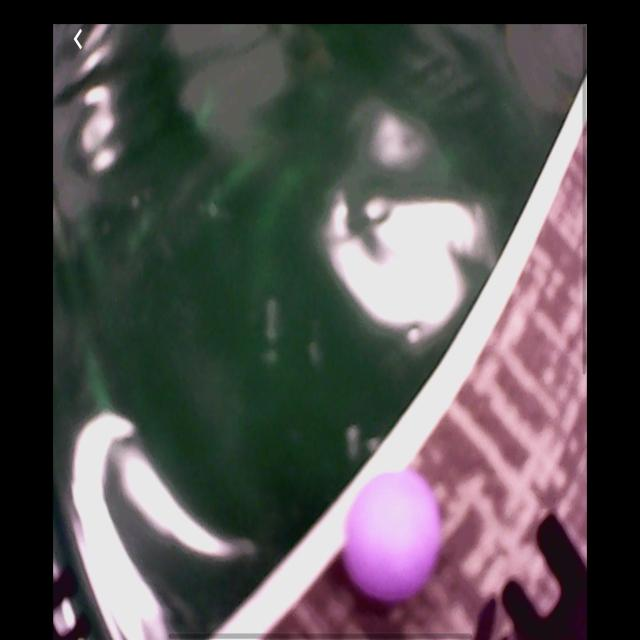ball: (349, 473, 443, 606)
